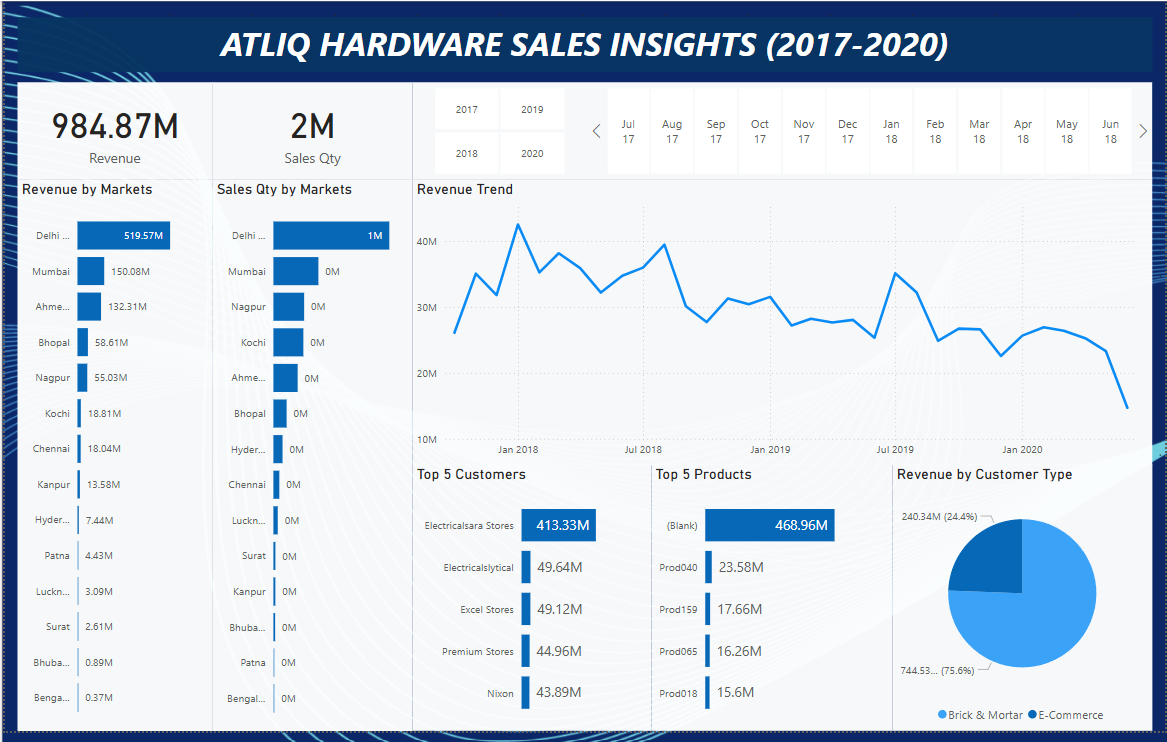

What the dashboard file says about the page in this screenshot:
{"tool":"powerbi","page":{"name":"Page 1","canvas":[1350,850],"ordinal":0},"visuals":[{"type":"card","fields":{"Values":["BaseMeasures.Revenue"]},"box":[14.5,94.5,226.9,113.5],"z":0},{"type":"card","fields":{"Values":["BaseMeasures.Sales Qty"]},"box":[241.5,94.5,232.7,113.5],"z":1000},{"type":"barChart","title":"Revenue by Markets","fields":{"Y":["BaseMeasures.Revenue"],"Category":["sales markets.markets_name"]},"box":[14.5,208,226.9,641.5],"z":2000},{"type":"barChart","title":"Sales Qty by Markets","fields":{"Y":["BaseMeasures.Sales Qty"],"Category":["sales markets.markets_name"]},"box":[241.5,208,232.7,641.5],"z":3000},{"type":"slicer","fields":{"Values":["sales date.year"]},"box":[474.2,94.5,200.7,113.5],"z":4000},{"type":"slicer","fields":{"Values":["sales date.cy_date"]},"box":[674.9,94.5,660.4,113.5],"z":5000},{"type":"barChart","title":"Top 5 Customers","fields":{"Y":["BaseMeasures.Revenue"],"Category":["sales customers.custmer_name"]},"box":[474.2,539.6,277.8,309.8],"z":6000},{"type":"barChart","title":"Top 5 Products","fields":{"Y":["BaseMeasures.Revenue"],"Category":["sales products.product_code"]},"box":[752,539.6,280.7,309.8],"z":7000},{"type":"lineChart","title":"Revenue Trend","fields":{"Y":["BaseMeasures.Revenue"],"Category":["sales date.cy_date"]},"box":[474.2,208,861.1,331.6],"z":8000},{"type":"pieChart","title":"Revenue by Customer Type","fields":{"Y":["BaseMeasures.Revenue"],"Category":["sales customers.customer_type"]},"box":[1032.7,539.6,302.5,309.8],"z":9000},{"type":"textbox","box":[14.5,18.9,1320.7,64],"z":9001}]}

Visuals, with their boxes in screenshot pixels (x1, y1, x2, y2), scaled from the page's 1350x850 canvas onto the 1167x742 screenshot:
card - BaseMeasures.Revenue: x1=13, y1=82, x2=209, y2=182
card - BaseMeasures.Sales Qty: x1=209, y1=82, x2=410, y2=182
"Revenue by Markets" barChart: x1=13, y1=182, x2=209, y2=741
"Sales Qty by Markets" barChart: x1=209, y1=182, x2=410, y2=741
slicer - sales date.year: x1=410, y1=82, x2=583, y2=182
slicer - sales date.cy_date: x1=583, y1=82, x2=1154, y2=182
"Top 5 Customers" barChart: x1=410, y1=471, x2=650, y2=741
"Top 5 Products" barChart: x1=650, y1=471, x2=893, y2=741
"Revenue Trend" lineChart: x1=410, y1=182, x2=1154, y2=471
"Revenue by Customer Type" pieChart: x1=893, y1=471, x2=1154, y2=741
textbox: x1=13, y1=16, x2=1154, y2=72
